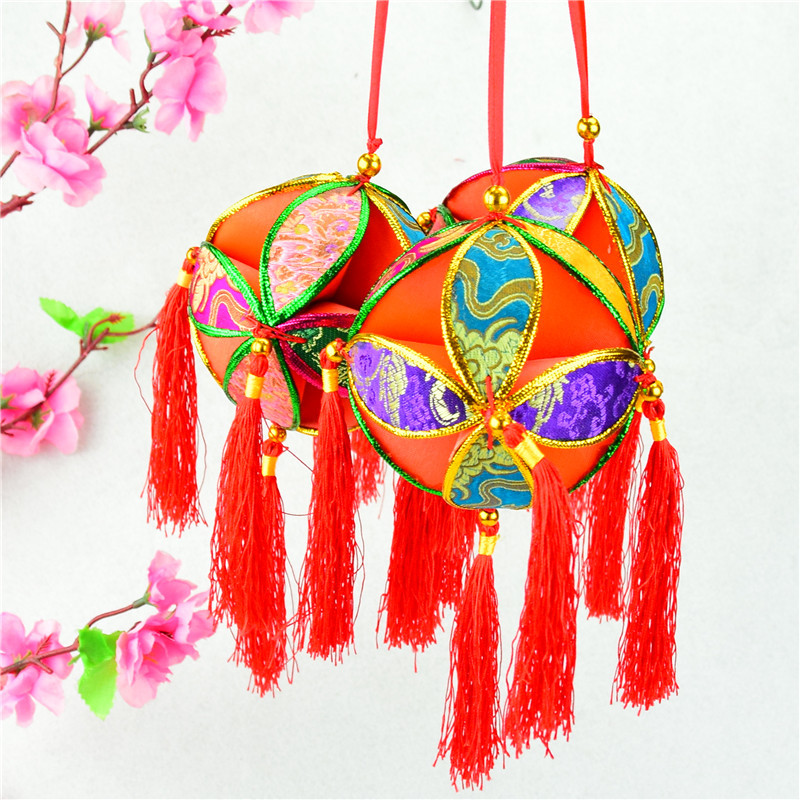xiuqiu: (346, 219, 646, 516)
